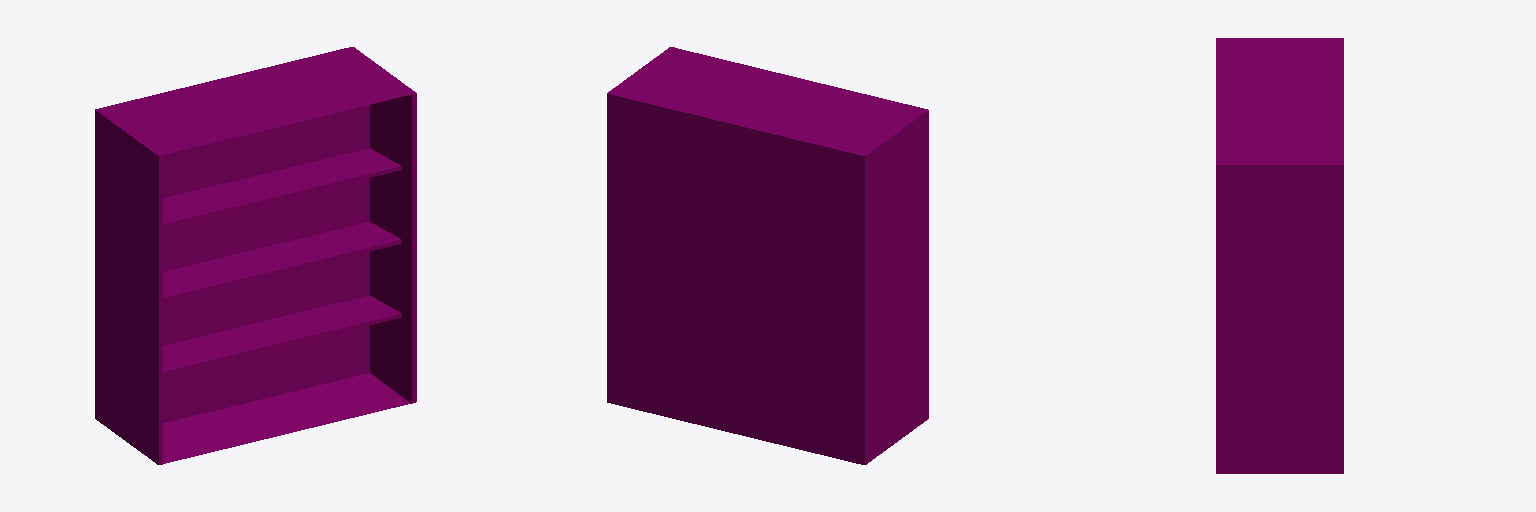
Rendered from Shelf.obj.
3 renders of one model, left to right at view 1: azimuth 30°, elevation 25°; view 2: azimuth 150°, elevation 25°; view 3: azimuth 270°, elevation 25°, orthographic.
Parts seen in each view (by area): view 1: Box001; view 2: Box001; view 3: Box001.
Boxes of the visible parts, box(x1,y1,x2,y2) form: Box001: box(95, 47, 416, 464); Box001: box(607, 47, 928, 464); Box001: box(1216, 38, 1343, 473).
Size of the model in its own units: 140 by 160 by 60.36.